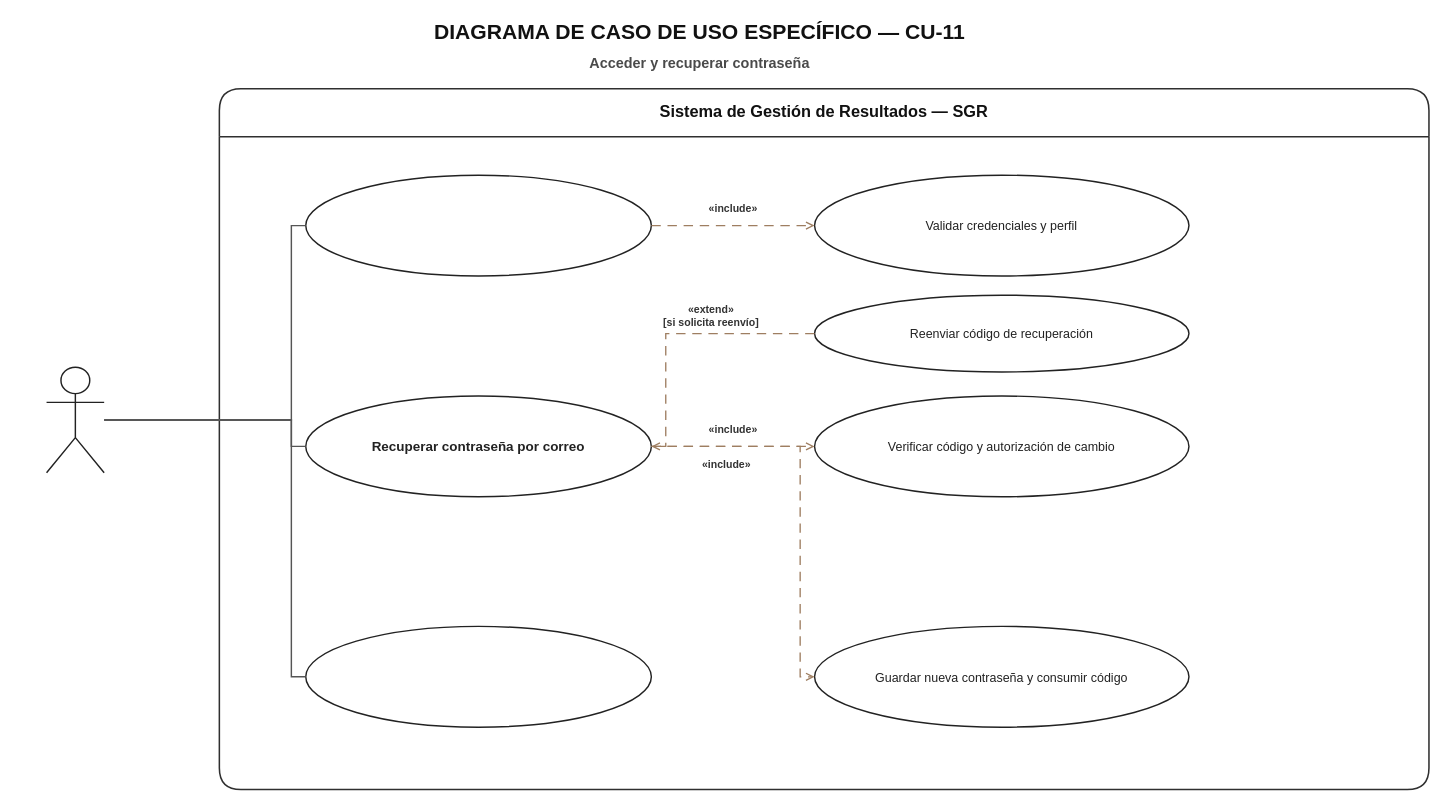
This 1447x806 diagram has some shape labels left out. The shapes that lost their labels are listed below. From the top down, each one's centre as x and y in pixels, then its label:
At point (478, 225): "Ingresar con usuario o correo".
At point (74, 419): "Usuario del sistema".
At point (478, 676): "Cerrar sesión".
